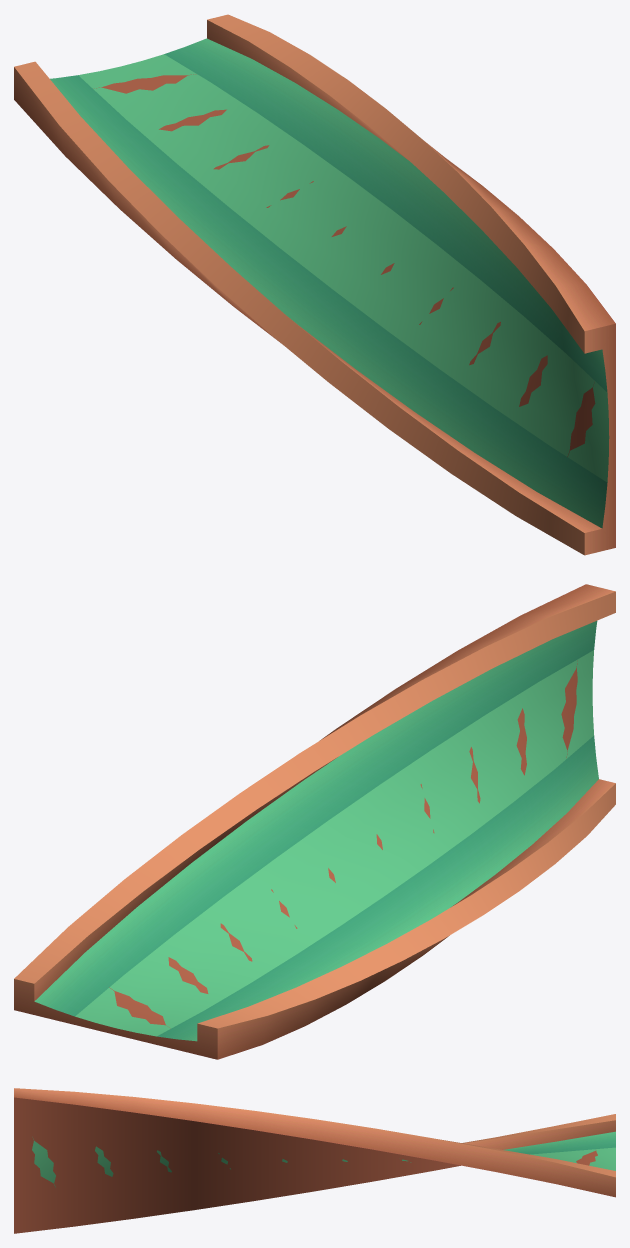
File: spline-concave-straight-skew-right-side.glb
The picture shows the model from 3 angles, top to bottom: view 1: azimuth 30°, elevation 25°; view 2: azimuth 150°, elevation 25°; view 3: azimuth 270°, elevation 25°; orthographic projection. The views are drawn at different scales.
Parts seen in each view (by area): view 1: spline-concave-straight-skew-right-side; view 2: spline-concave-straight-skew-right-side; view 3: spline-concave-straight-skew-right-side.
Part boxes in pixels (box(x1,y1,x2,y2)): spline-concave-straight-skew-right-side: box(14, 14, 615, 555); spline-concave-straight-skew-right-side: box(14, 584, 615, 1059); spline-concave-straight-skew-right-side: box(14, 1088, 615, 1233).
Bounding box in the file's own units: 1.02 × 1.02 × 4.
1 material, 1 textured.
